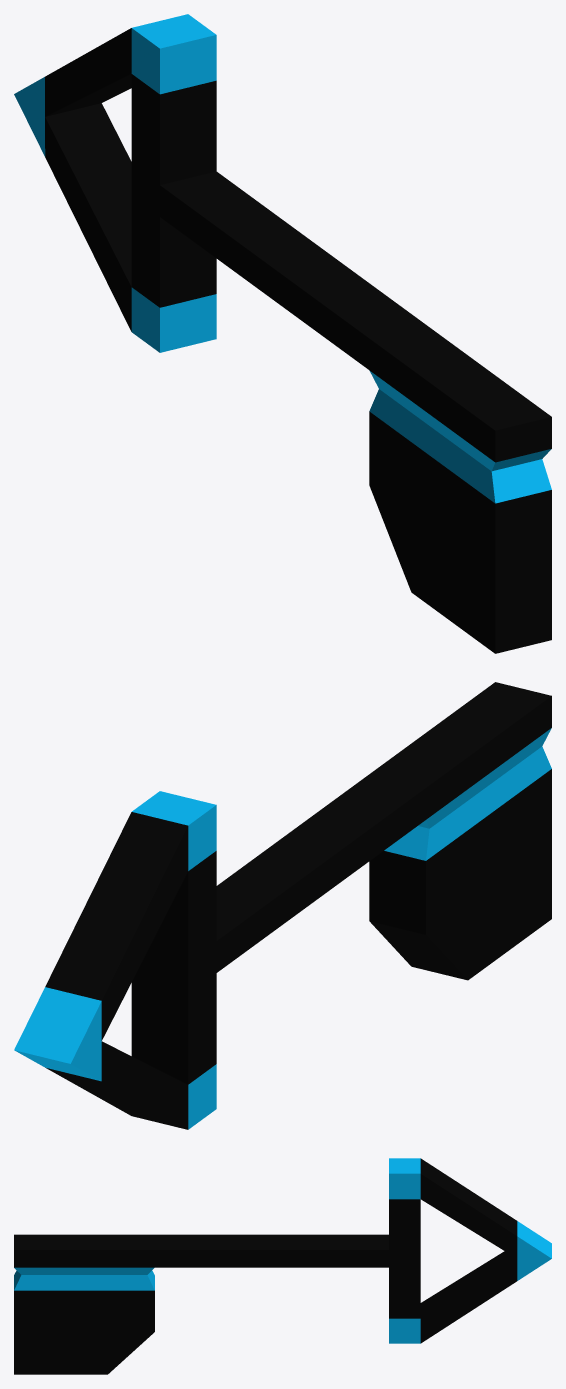
Rendered from LowPolyBlueKey.fbx.
3 renders of one model, top to bottom at view 1: azimuth 30°, elevation 25°; view 2: azimuth 150°, elevation 25°; view 3: azimuth 270°, elevation 25°, orthographic. The views are drawn at different scales.
Parts seen in each view (by area): view 1: Cube; view 2: Cube; view 3: Cube.
Part boxes in pixels (bbox=[...]): Cube: bbox=[14, 14, 551, 653]; Cube: bbox=[14, 682, 551, 1129]; Cube: bbox=[14, 1158, 551, 1374].
Bounding box in the file's own units: 38.92 × 236 × 573.
